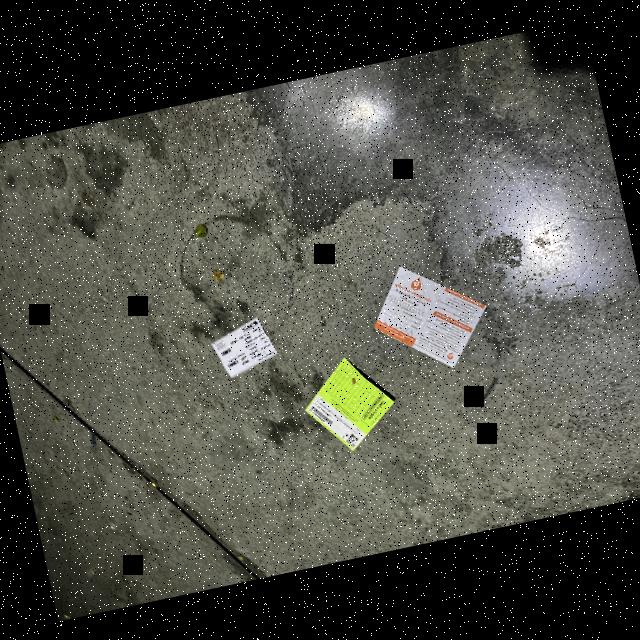scrap_paper: (362, 252, 498, 384), (292, 351, 404, 459), (200, 315, 286, 385)
